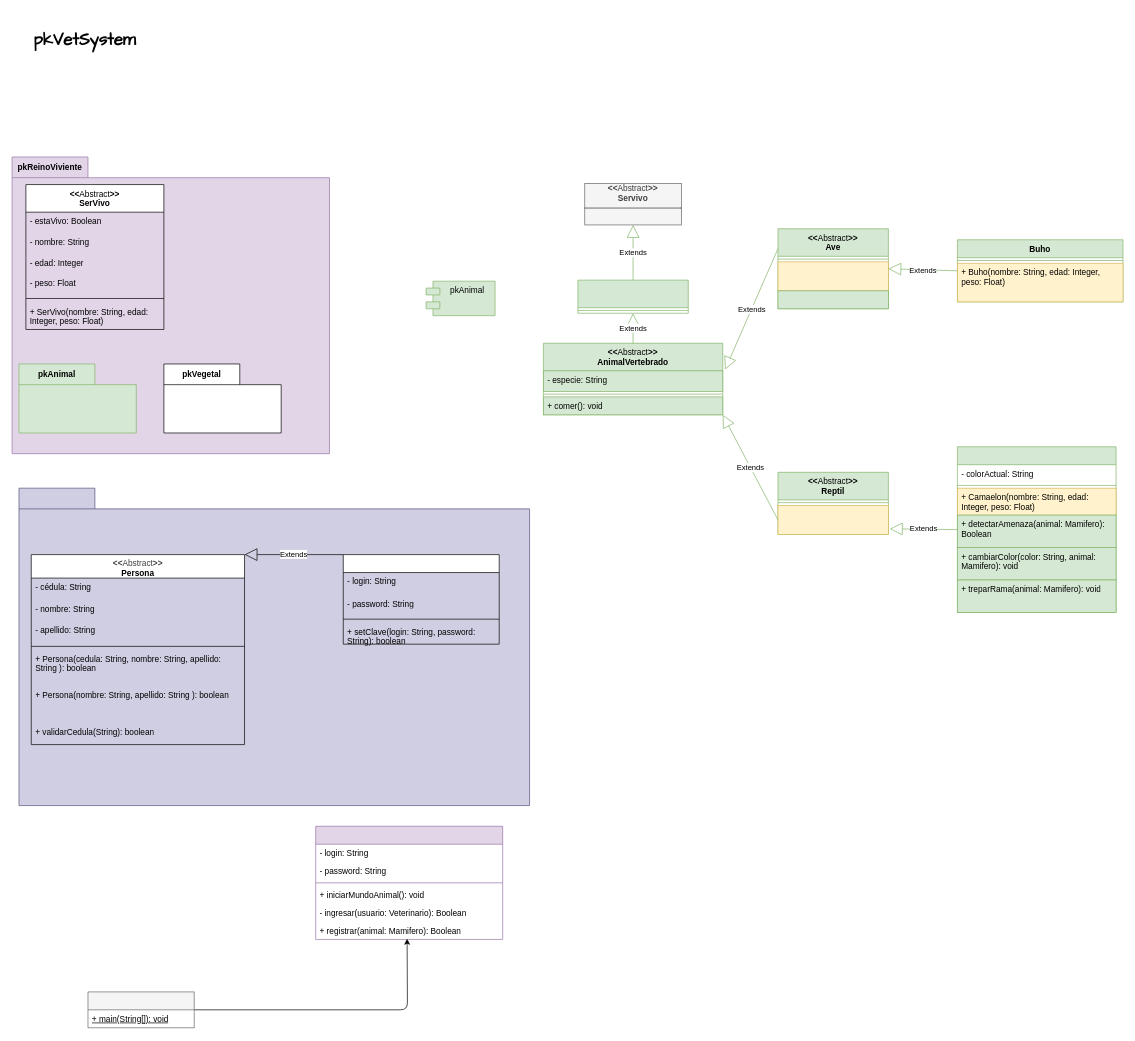
The diagram is 1135 pixels wide and 1041 high, and some of its shapes have lost their labels. The shapes that lost their labels are listed below. From the top down, each one's box as (x1, y1, x2, y2) in pixels, then its label:
(577, 279, 688, 313): << Abstract >> ReinoAnimal
(777, 261, 888, 291): + Ave( nombre: String, edad: Integer, peso: Float )
(777, 290, 888, 309): + comer()
(777, 505, 888, 534): + Reptil(n ombre: String, edad: Integer, peso: Float )
(957, 446, 1116, 612): Camaleon
(343, 554, 499, 644): Veterinario
(18, 487, 530, 806): pkhumano
(315, 826, 503, 939): AppVetSystem
(87, 991, 194, 1028): App
